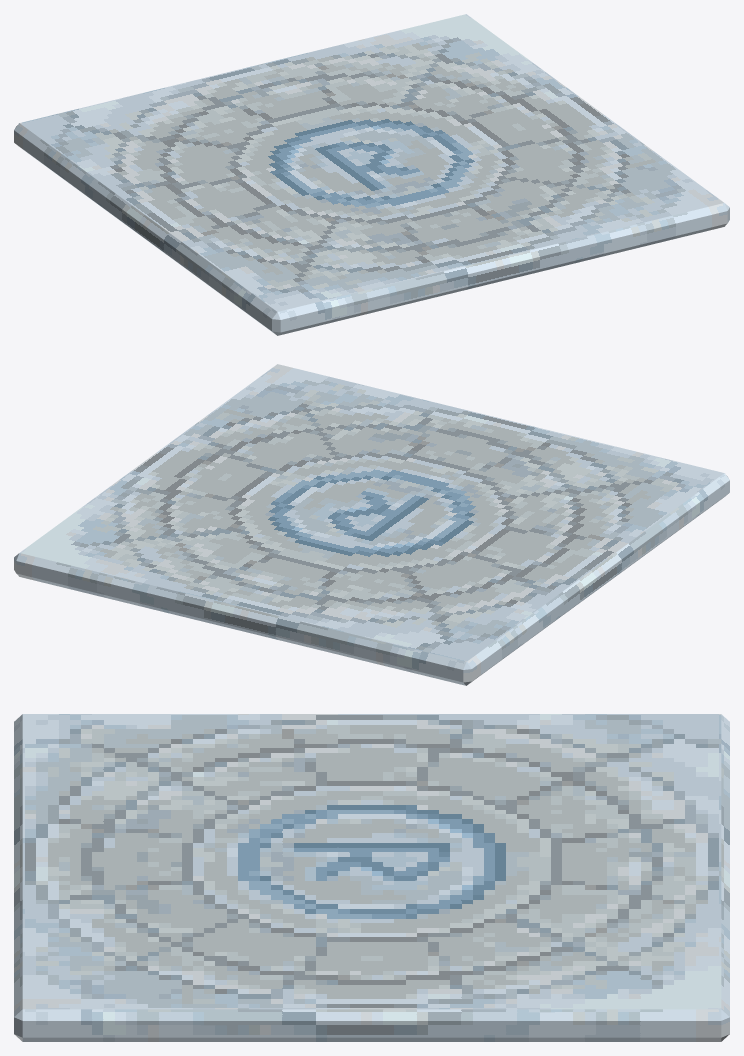
File: topo_zona.glb
The picture shows the model from 3 angles, top to bottom: view 1: azimuth 30°, elevation 25°; view 2: azimuth 150°, elevation 25°; view 3: azimuth 270°, elevation 25°; orthographic projection. The views are drawn at different scales.
Parts seen in each view (by area): view 1: neve_topo_zona; view 2: neve_topo_zona; view 3: neve_topo_zona.
Part boxes in pixels (<box>): neve_topo_zona: <box>14,14,729,335</box>; neve_topo_zona: <box>14,364,729,685</box>; neve_topo_zona: <box>14,714,729,1041</box>.
Size of the model in its own units: 1 by 0.05 by 1.
1 material, 1 textured.
